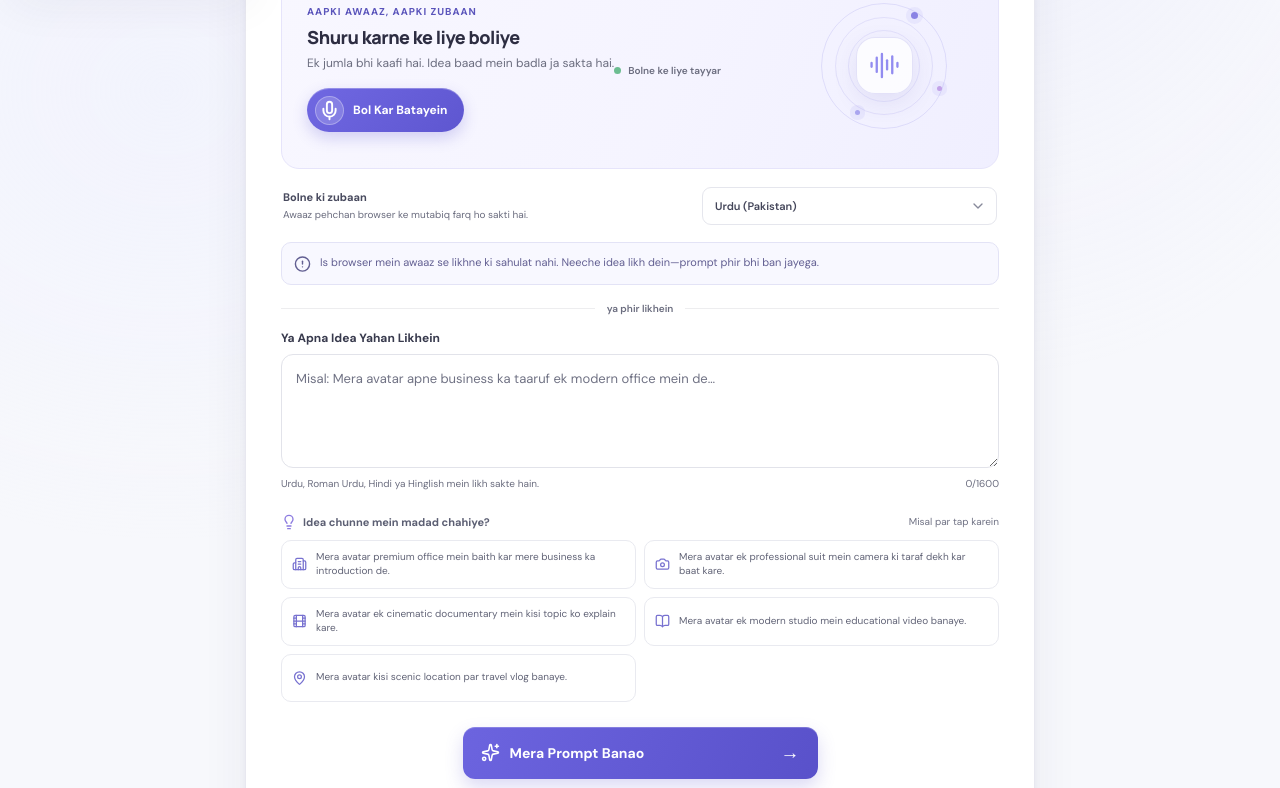
Test case: Flow Prompt Assistant workflow › lets a user edit the current idea or start over completely
(page scrolled)
Type "An avatar waves beside the sea at sunset." into the text box labelled "Ya Apna Idea Yahan Likhein".
click(640, 411); type("An avatar waves beside the sea at sunset.")  # box [281,354,999,468]
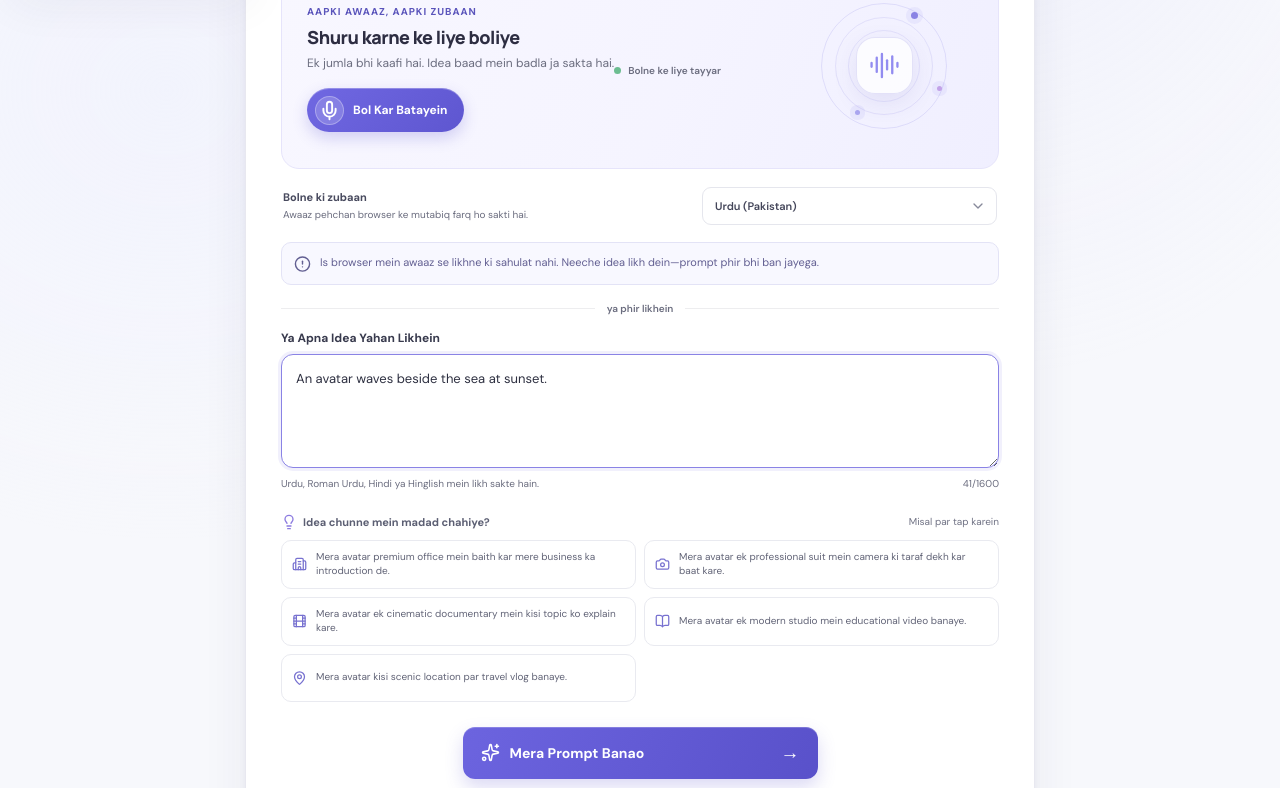
Click the button "Mera Prompt Banao →".
click(640, 752)  # box [462,726,818,778]
(page scrolled)
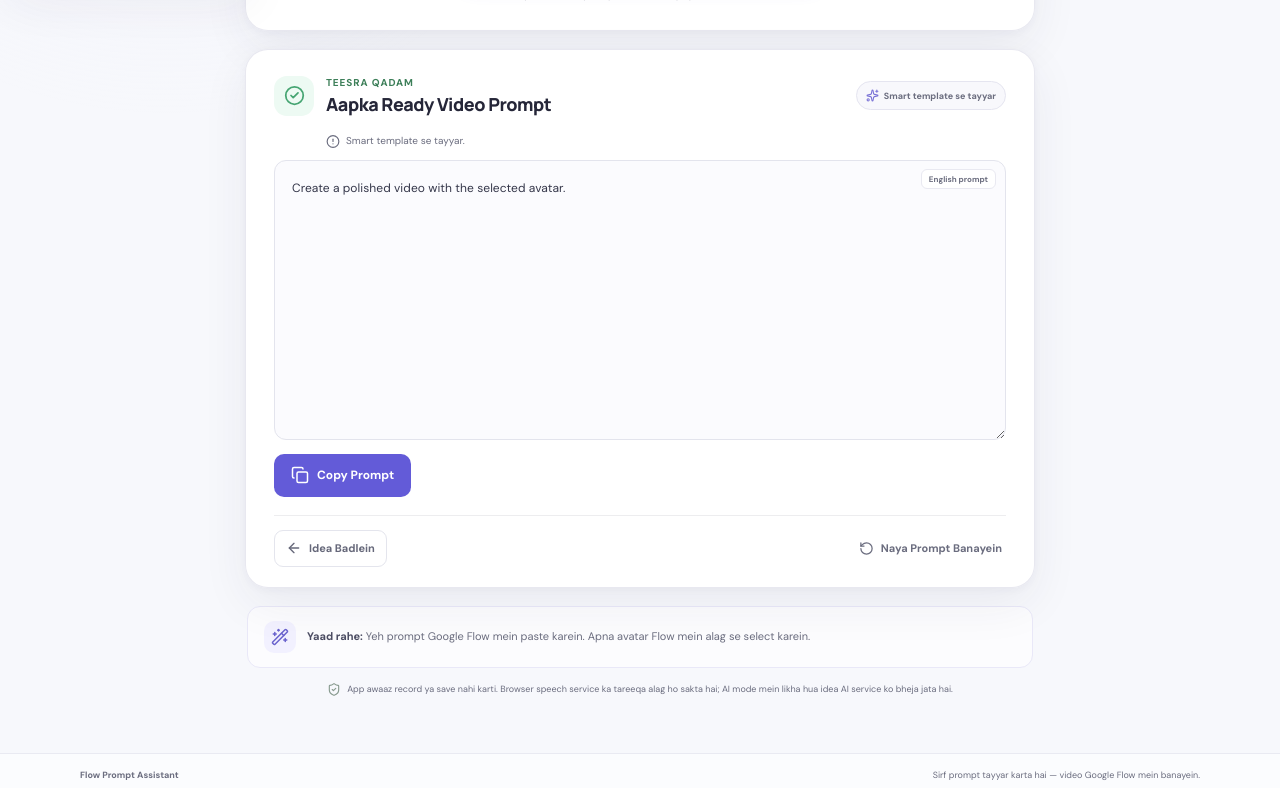
Result: the heading "Aapka Ready Video Prompt" is shown at [326,92,551,116]
Click the button "Idea Badlein".
click(330, 548)  # box [274,530,387,567]
(page scrolled)
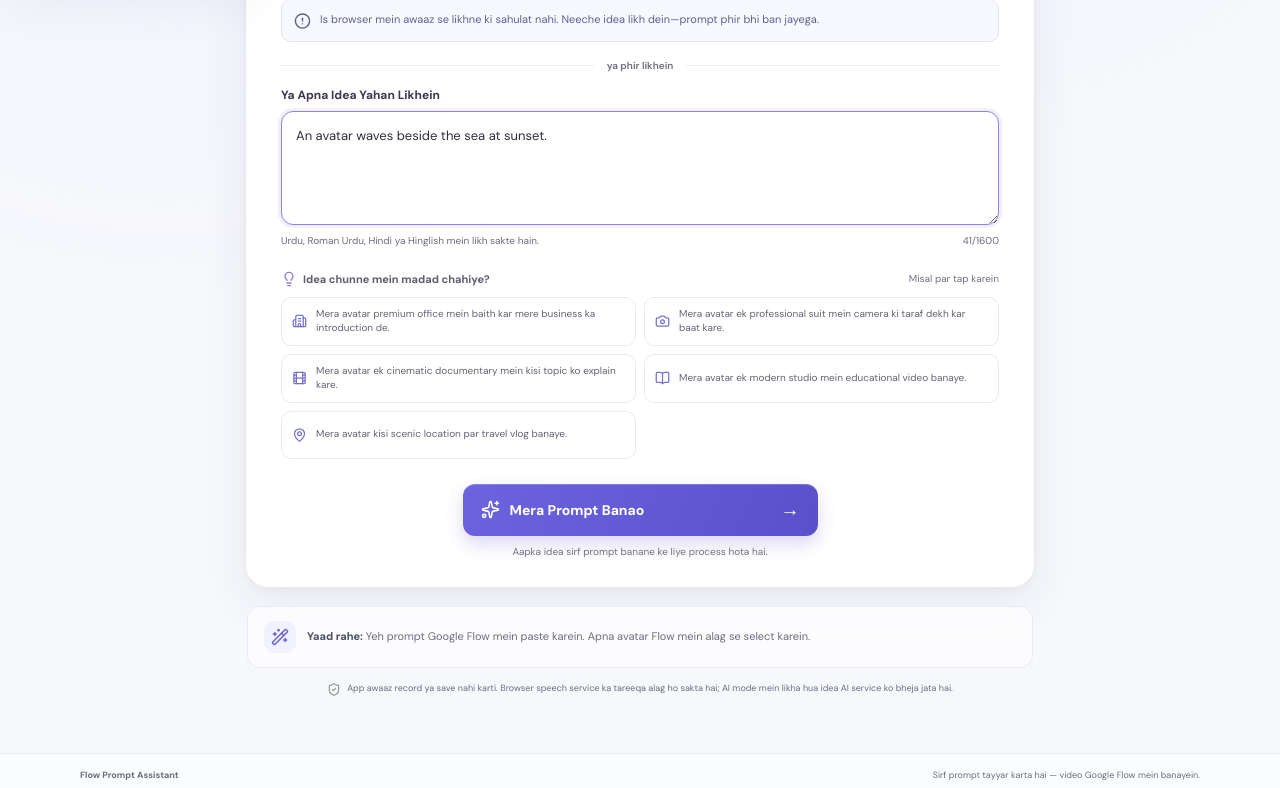
Result: the heading "Aapka Ready Video Prompt" is gone
Click the button "Mera Prompt Banao →".
click(640, 510)  # box [462,484,818,536]
(page scrolled)
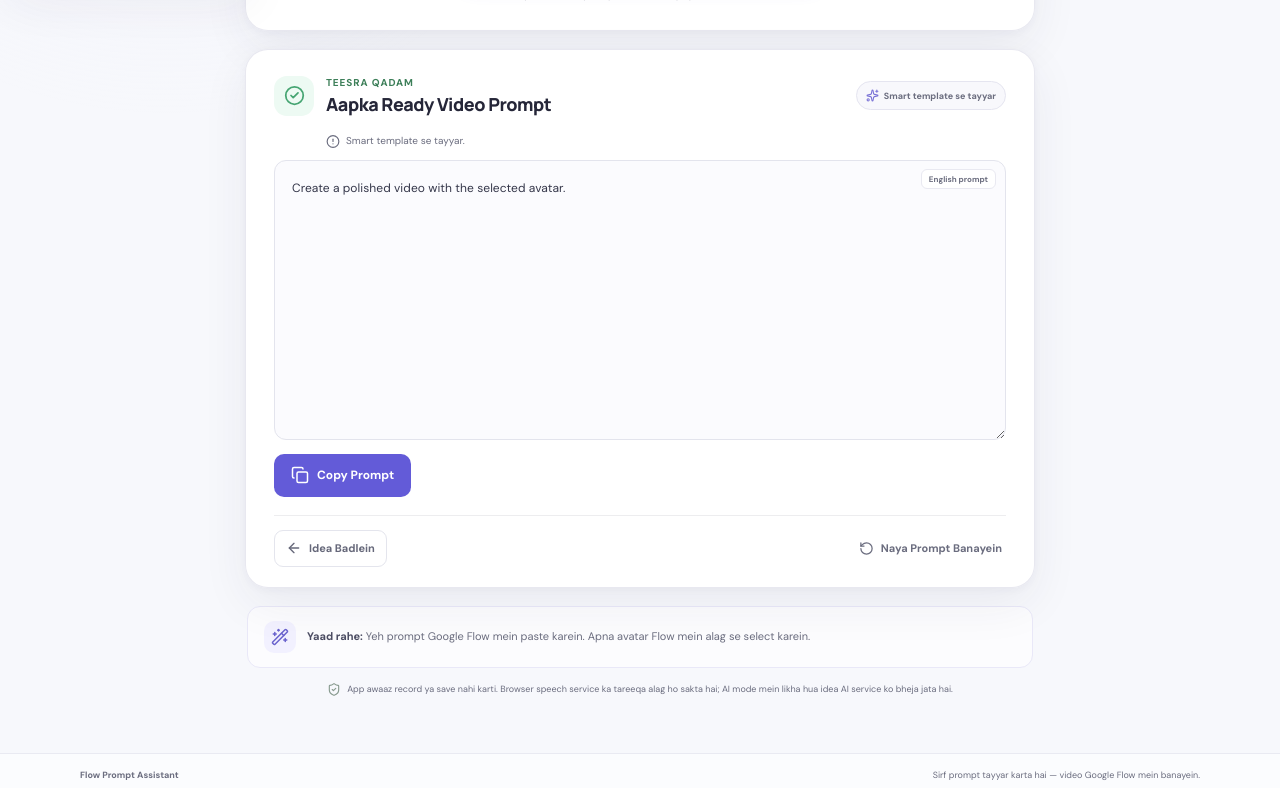
Result: the heading "Aapka Ready Video Prompt" is shown at [326,92,551,116]
Click the button "Naya Prompt Banayein".
click(930, 548)  # box [855,530,1006,567]
(page scrolled)
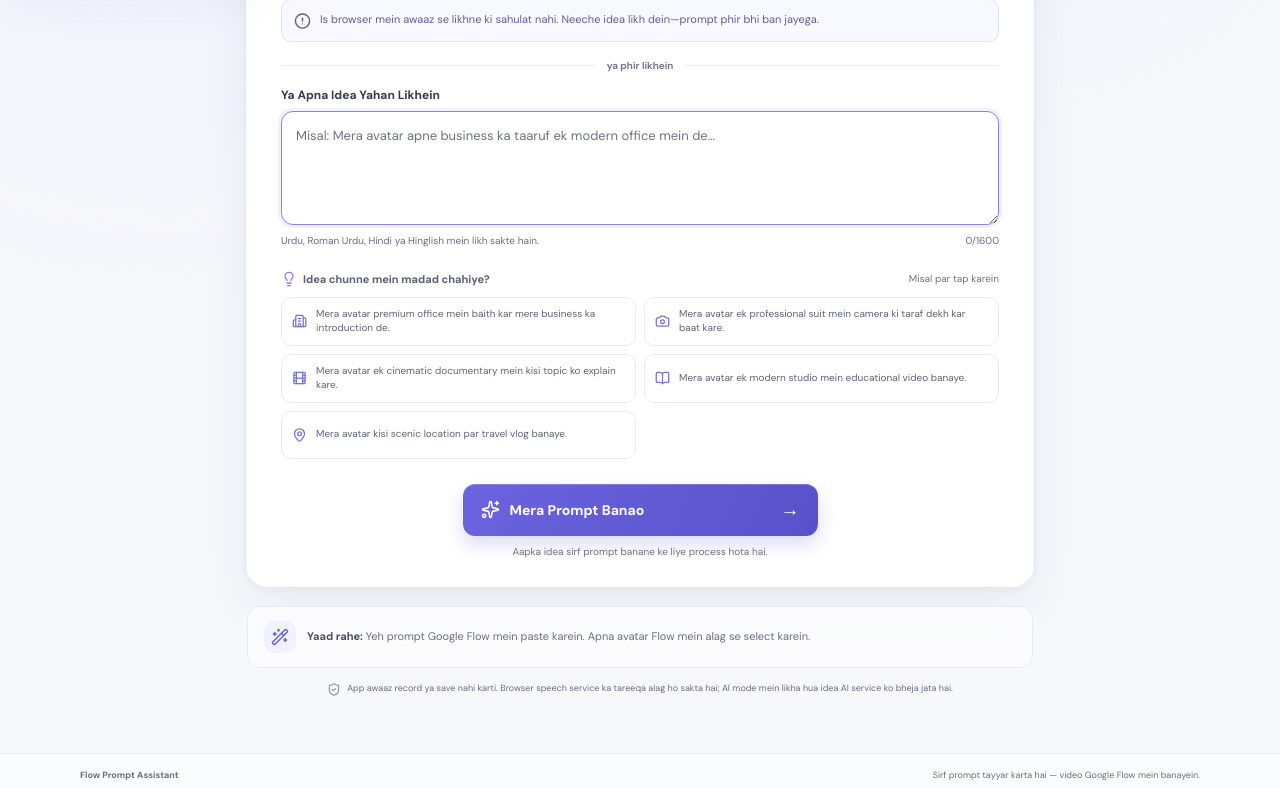
Result: the heading "Aapka Ready Video Prompt" is gone
Result: the text box labelled "Ya Apna Idea Yahan Likhein" is empty at [281,111,999,225]
